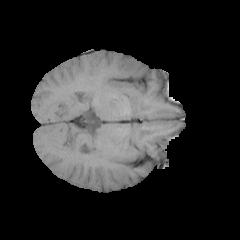glioma: (104, 57, 151, 95)
